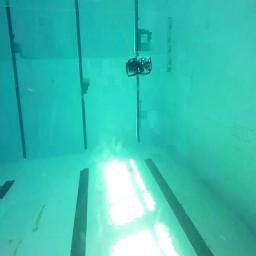front: (125, 57, 151, 77)
